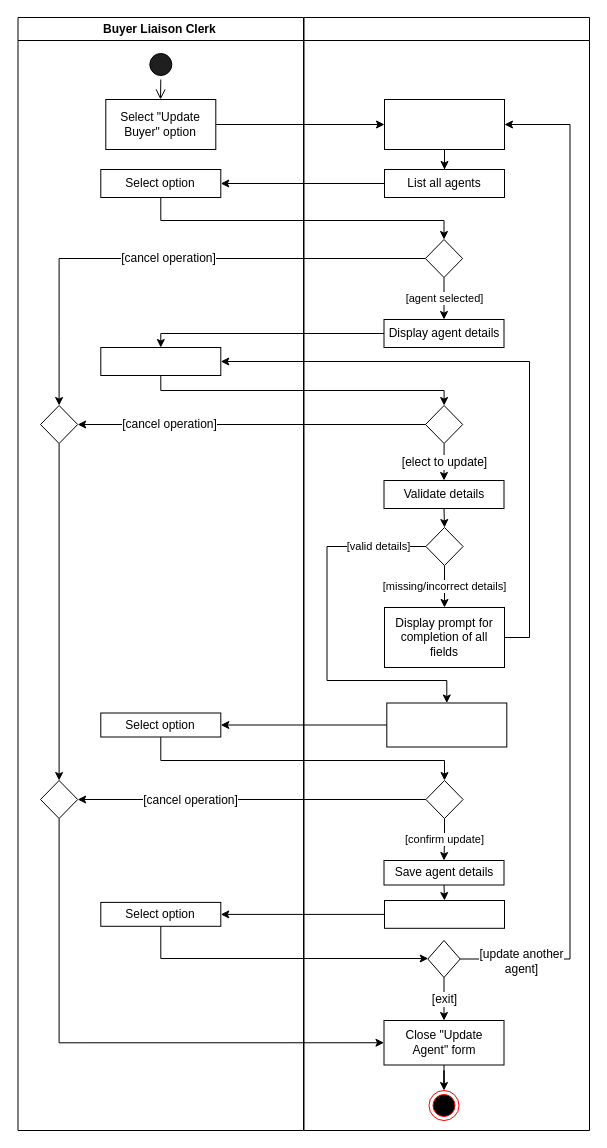
Image size: 607x1148. Some labels were removed from this diagram. Each missing label, with the box of its shape:
Display "Update Buyer" form: (384, 98, 504, 150)
Display exit prompt: (384, 900, 504, 928)
Display prompt for confirmation: (386, 702, 507, 747)
System: (303, 16, 590, 1130)
Update agent details: (100, 346, 221, 376)
